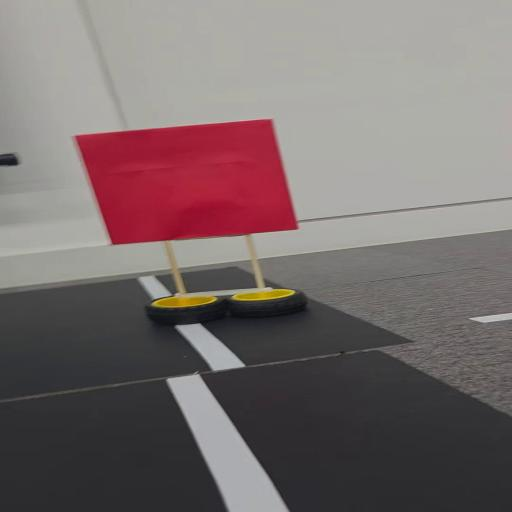Sign_A: (71, 118, 337, 332)
